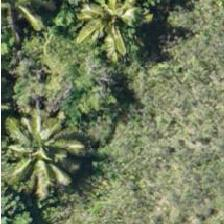Kelapa_Sawit: (12, 103, 102, 193), (62, 0, 152, 62)
